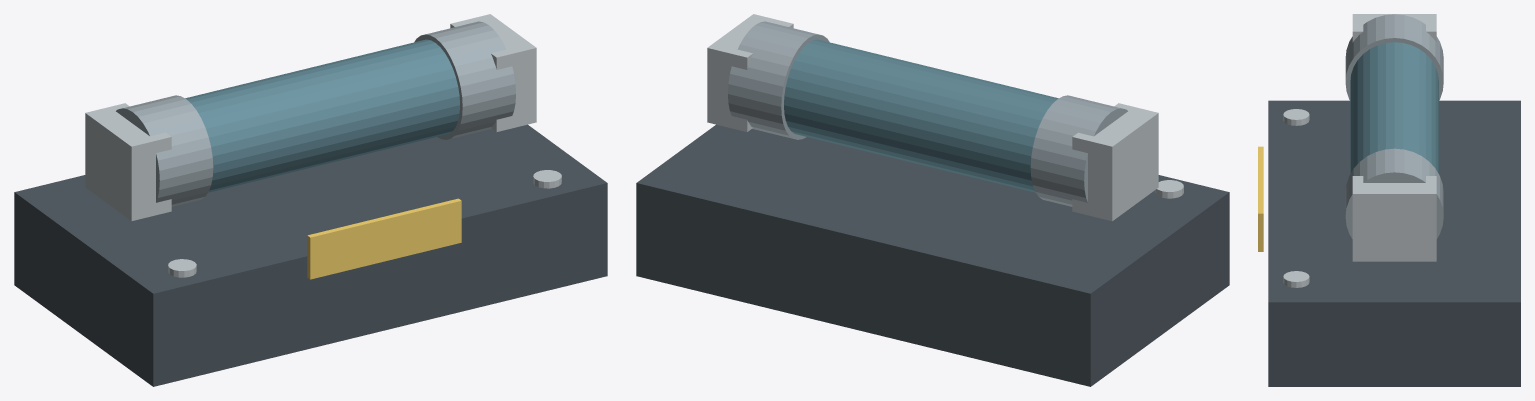
Rendered from fuse_module_lod1.glb.
3 renders of one model, left to right at view 1: azimuth 30°, elevation 25°; view 2: azimuth 150°, elevation 25°; view 3: azimuth 270°, elevation 25°, orthographic. The views are drawn at different scales.
Visible parts, largest first — view 1: FUSE_BASE_MAT_POLYMER_BLACK, FUSE_GLASS_MAT_GLASS, FUSE_CAUTION_LABEL_MAT_WARNING, FUSE_CLIP_0_MAT_STAINLESS, FUSE_CAP_0.34_MAT_METAL_BRUSHED, FUSE_CAP_-0.34_MAT_METAL_BRUSHED, FUSE_CLIP_1_MAT_STAINLESS; view 2: FUSE_BASE_MAT_POLYMER_BLACK, FUSE_GLASS_MAT_GLASS, FUSE_CLIP_0_MAT_STAINLESS, FUSE_CAP_0.34_MAT_METAL_BRUSHED, FUSE_CAP_-0.34_MAT_METAL_BRUSHED, FUSE_CLIP_1_MAT_STAINLESS; view 3: FUSE_BASE_MAT_POLYMER_BLACK, FUSE_GLASS_MAT_GLASS, FUSE_CLIP_1_MAT_STAINLESS, FUSE_CAP_0.34_MAT_METAL_BRUSHED, FUSE_CAP_-0.34_MAT_METAL_BRUSHED, FUSE_CLIP_0_MAT_STAINLESS, FUSE_CAUTION_LABEL_MAT_WARNING, FUSE_CLIP_SCREW_1_MAT_STAINLESS, FUSE_CLIP_SCREW_0_MAT_STAINLESS.
Boxes of the visible parts, x1=… form: FUSE_BASE_MAT_POLYMER_BLACK: x1=14, y1=124, x2=607, y2=386; FUSE_GLASS_MAT_GLASS: x1=185, y1=39, x2=459, y2=192; FUSE_CAUTION_LABEL_MAT_WARNING: x1=307, y1=198, x2=461, y2=279; FUSE_CLIP_0_MAT_STAINLESS: x1=85, y1=103, x2=171, y2=221; FUSE_CAP_0.34_MAT_METAL_BRUSHED: x1=414, y1=21, x2=515, y2=139; FUSE_CAP_-0.34_MAT_METAL_BRUSHED: x1=116, y1=95, x2=213, y2=206; FUSE_CLIP_1_MAT_STAINLESS: x1=450, y1=14, x2=536, y2=131; FUSE_BASE_MAT_POLYMER_BLACK: x1=636, y1=124, x2=1229, y2=386; FUSE_GLASS_MAT_GLASS: x1=784, y1=39, x2=1058, y2=192; FUSE_CLIP_0_MAT_STAINLESS: x1=1072, y1=103, x2=1158, y2=221; FUSE_CAP_0.34_MAT_METAL_BRUSHED: x1=728, y1=21, x2=829, y2=139; FUSE_CAP_-0.34_MAT_METAL_BRUSHED: x1=1030, y1=95, x2=1127, y2=206; FUSE_CLIP_1_MAT_STAINLESS: x1=707, y1=14, x2=793, y2=131; FUSE_BASE_MAT_POLYMER_BLACK: x1=1268, y1=100, x2=1520, y2=386; FUSE_GLASS_MAT_GLASS: x1=1350, y1=42, x2=1438, y2=173; FUSE_CLIP_1_MAT_STAINLESS: x1=1352, y1=176, x2=1436, y2=261; FUSE_CAP_0.34_MAT_METAL_BRUSHED: x1=1345, y1=148, x2=1443, y2=238; FUSE_CAP_-0.34_MAT_METAL_BRUSHED: x1=1345, y1=14, x2=1443, y2=100; FUSE_CLIP_0_MAT_STAINLESS: x1=1352, y1=14, x2=1436, y2=42; FUSE_CAUTION_LABEL_MAT_WARNING: x1=1258, y1=146, x2=1263, y2=251; FUSE_CLIP_SCREW_1_MAT_STAINLESS: x1=1283, y1=271, x2=1309, y2=287; FUSE_CLIP_SCREW_0_MAT_STAINLESS: x1=1283, y1=109, x2=1309, y2=125.
Size of the model in its own units: 1.02 by 0.455 by 0.562.
